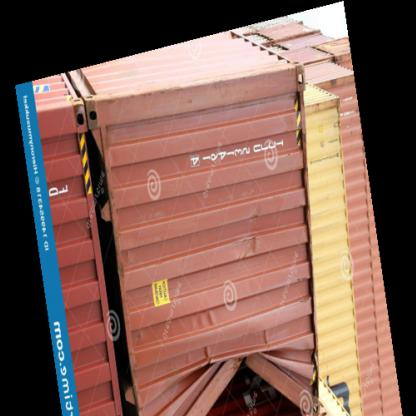Damage: (133, 327, 326, 415)
